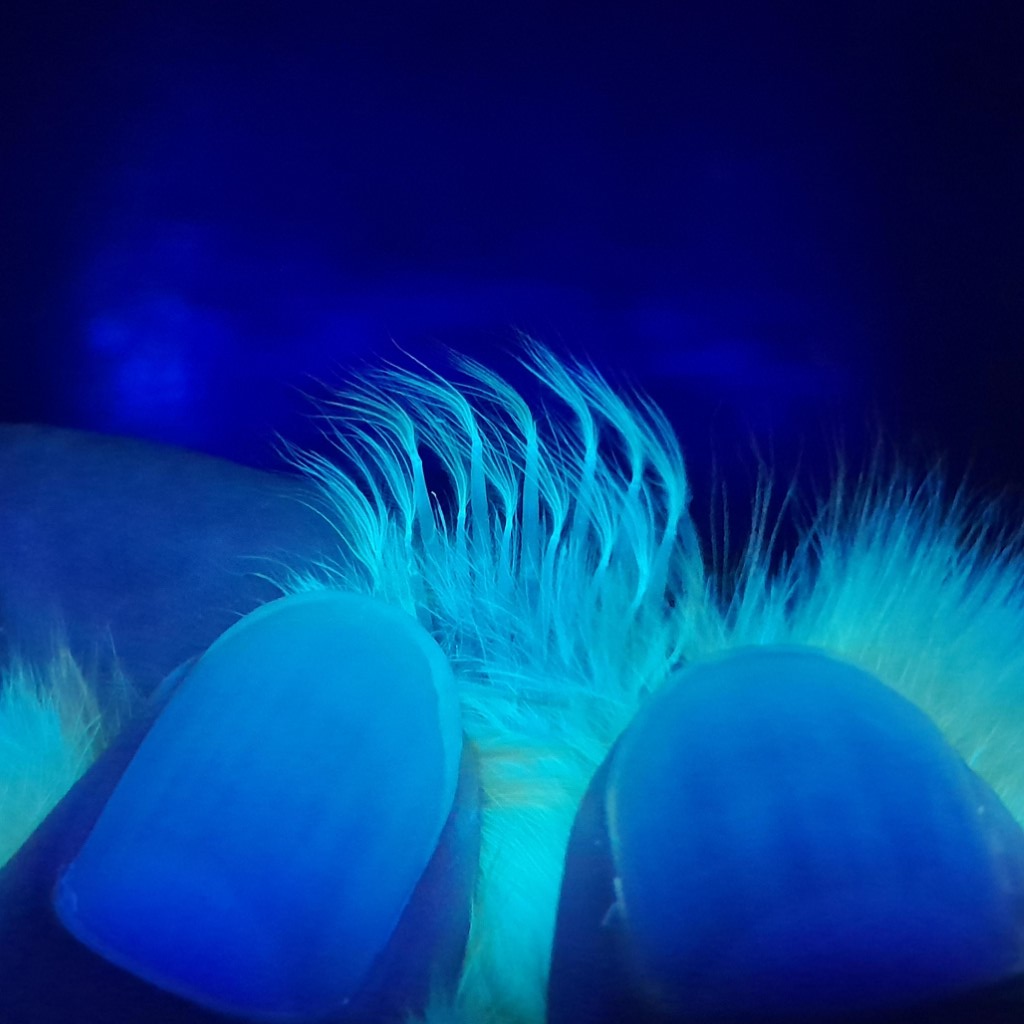female: (377, 429, 714, 766)
